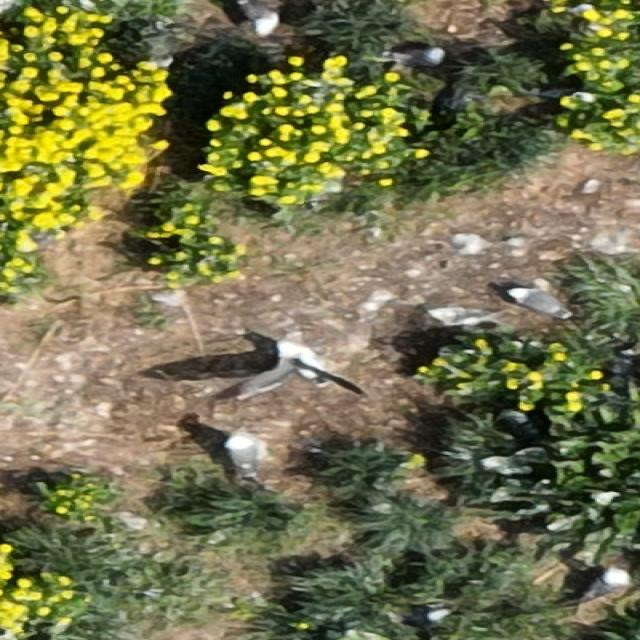F: (221, 336, 362, 404)
umineko: (222, 430, 274, 476), (516, 292, 566, 318), (243, 2, 278, 33), (587, 571, 626, 596), (394, 47, 441, 65)
